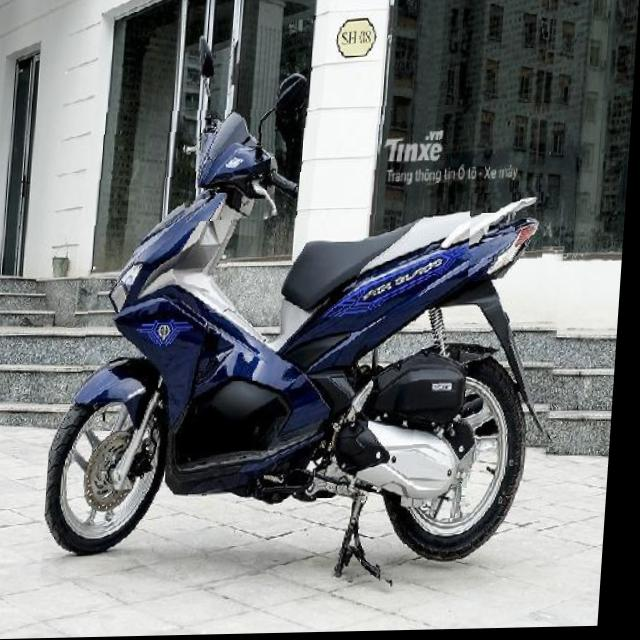All: (48, 105, 579, 594)
Head: (182, 111, 305, 224)
Tail: (470, 194, 549, 283)
